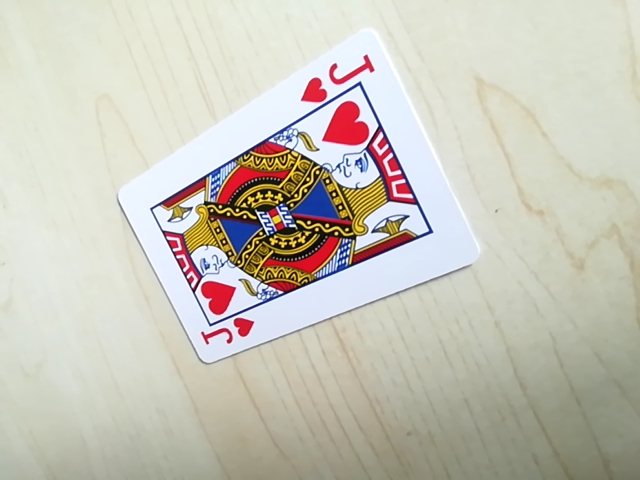hx j: (293, 47, 378, 106), (196, 315, 259, 357)
